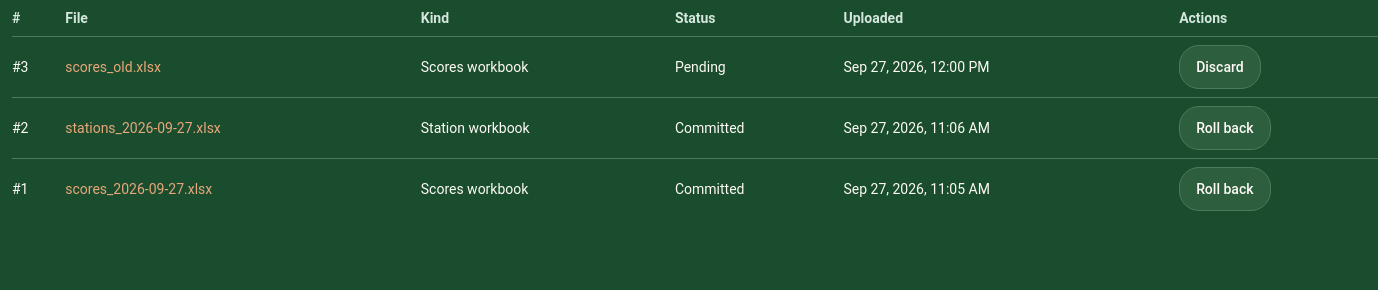
Test: ImportHistory › rolls back a committed import after a second confirming click
Click the button "Roll back" in the row of "#2" at (1225, 128), box [1179,106,1271,150]
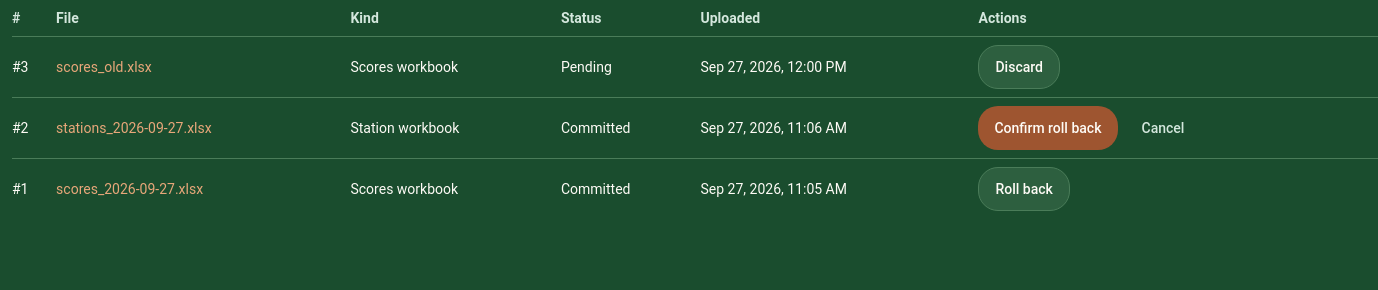
Click the button "Confirm roll back" at (1048, 128), box [978,106,1118,150]
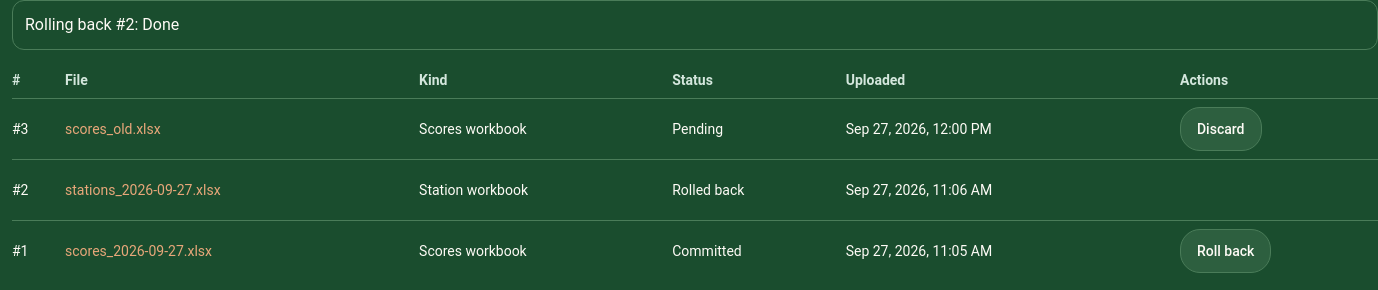
Expected: the text "Rolling back #2: Done" is shown, [12,0,1377,50]
Expected: the text "Rolled back" is shown, [672,160,846,220]
